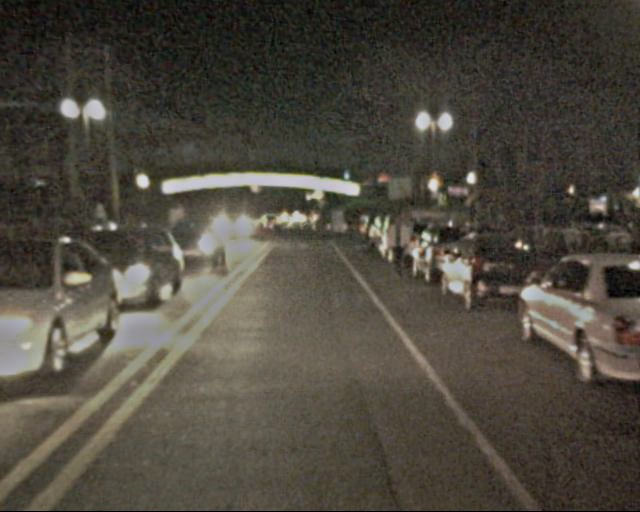person: (381, 215, 410, 286)
